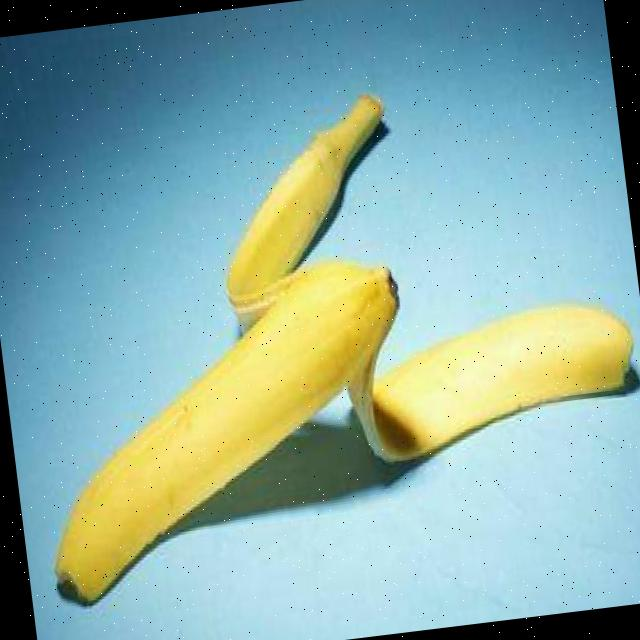banana-peel: (19, 248, 432, 610), (340, 290, 640, 468)
